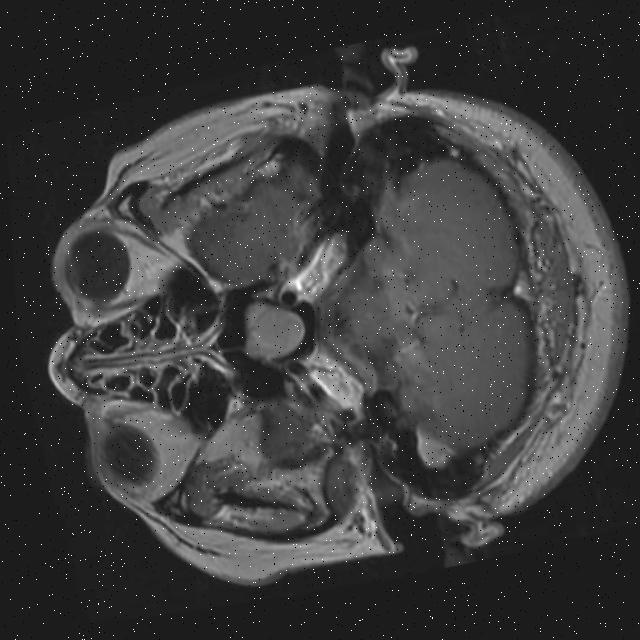Pituitary: (233, 292, 312, 370)
